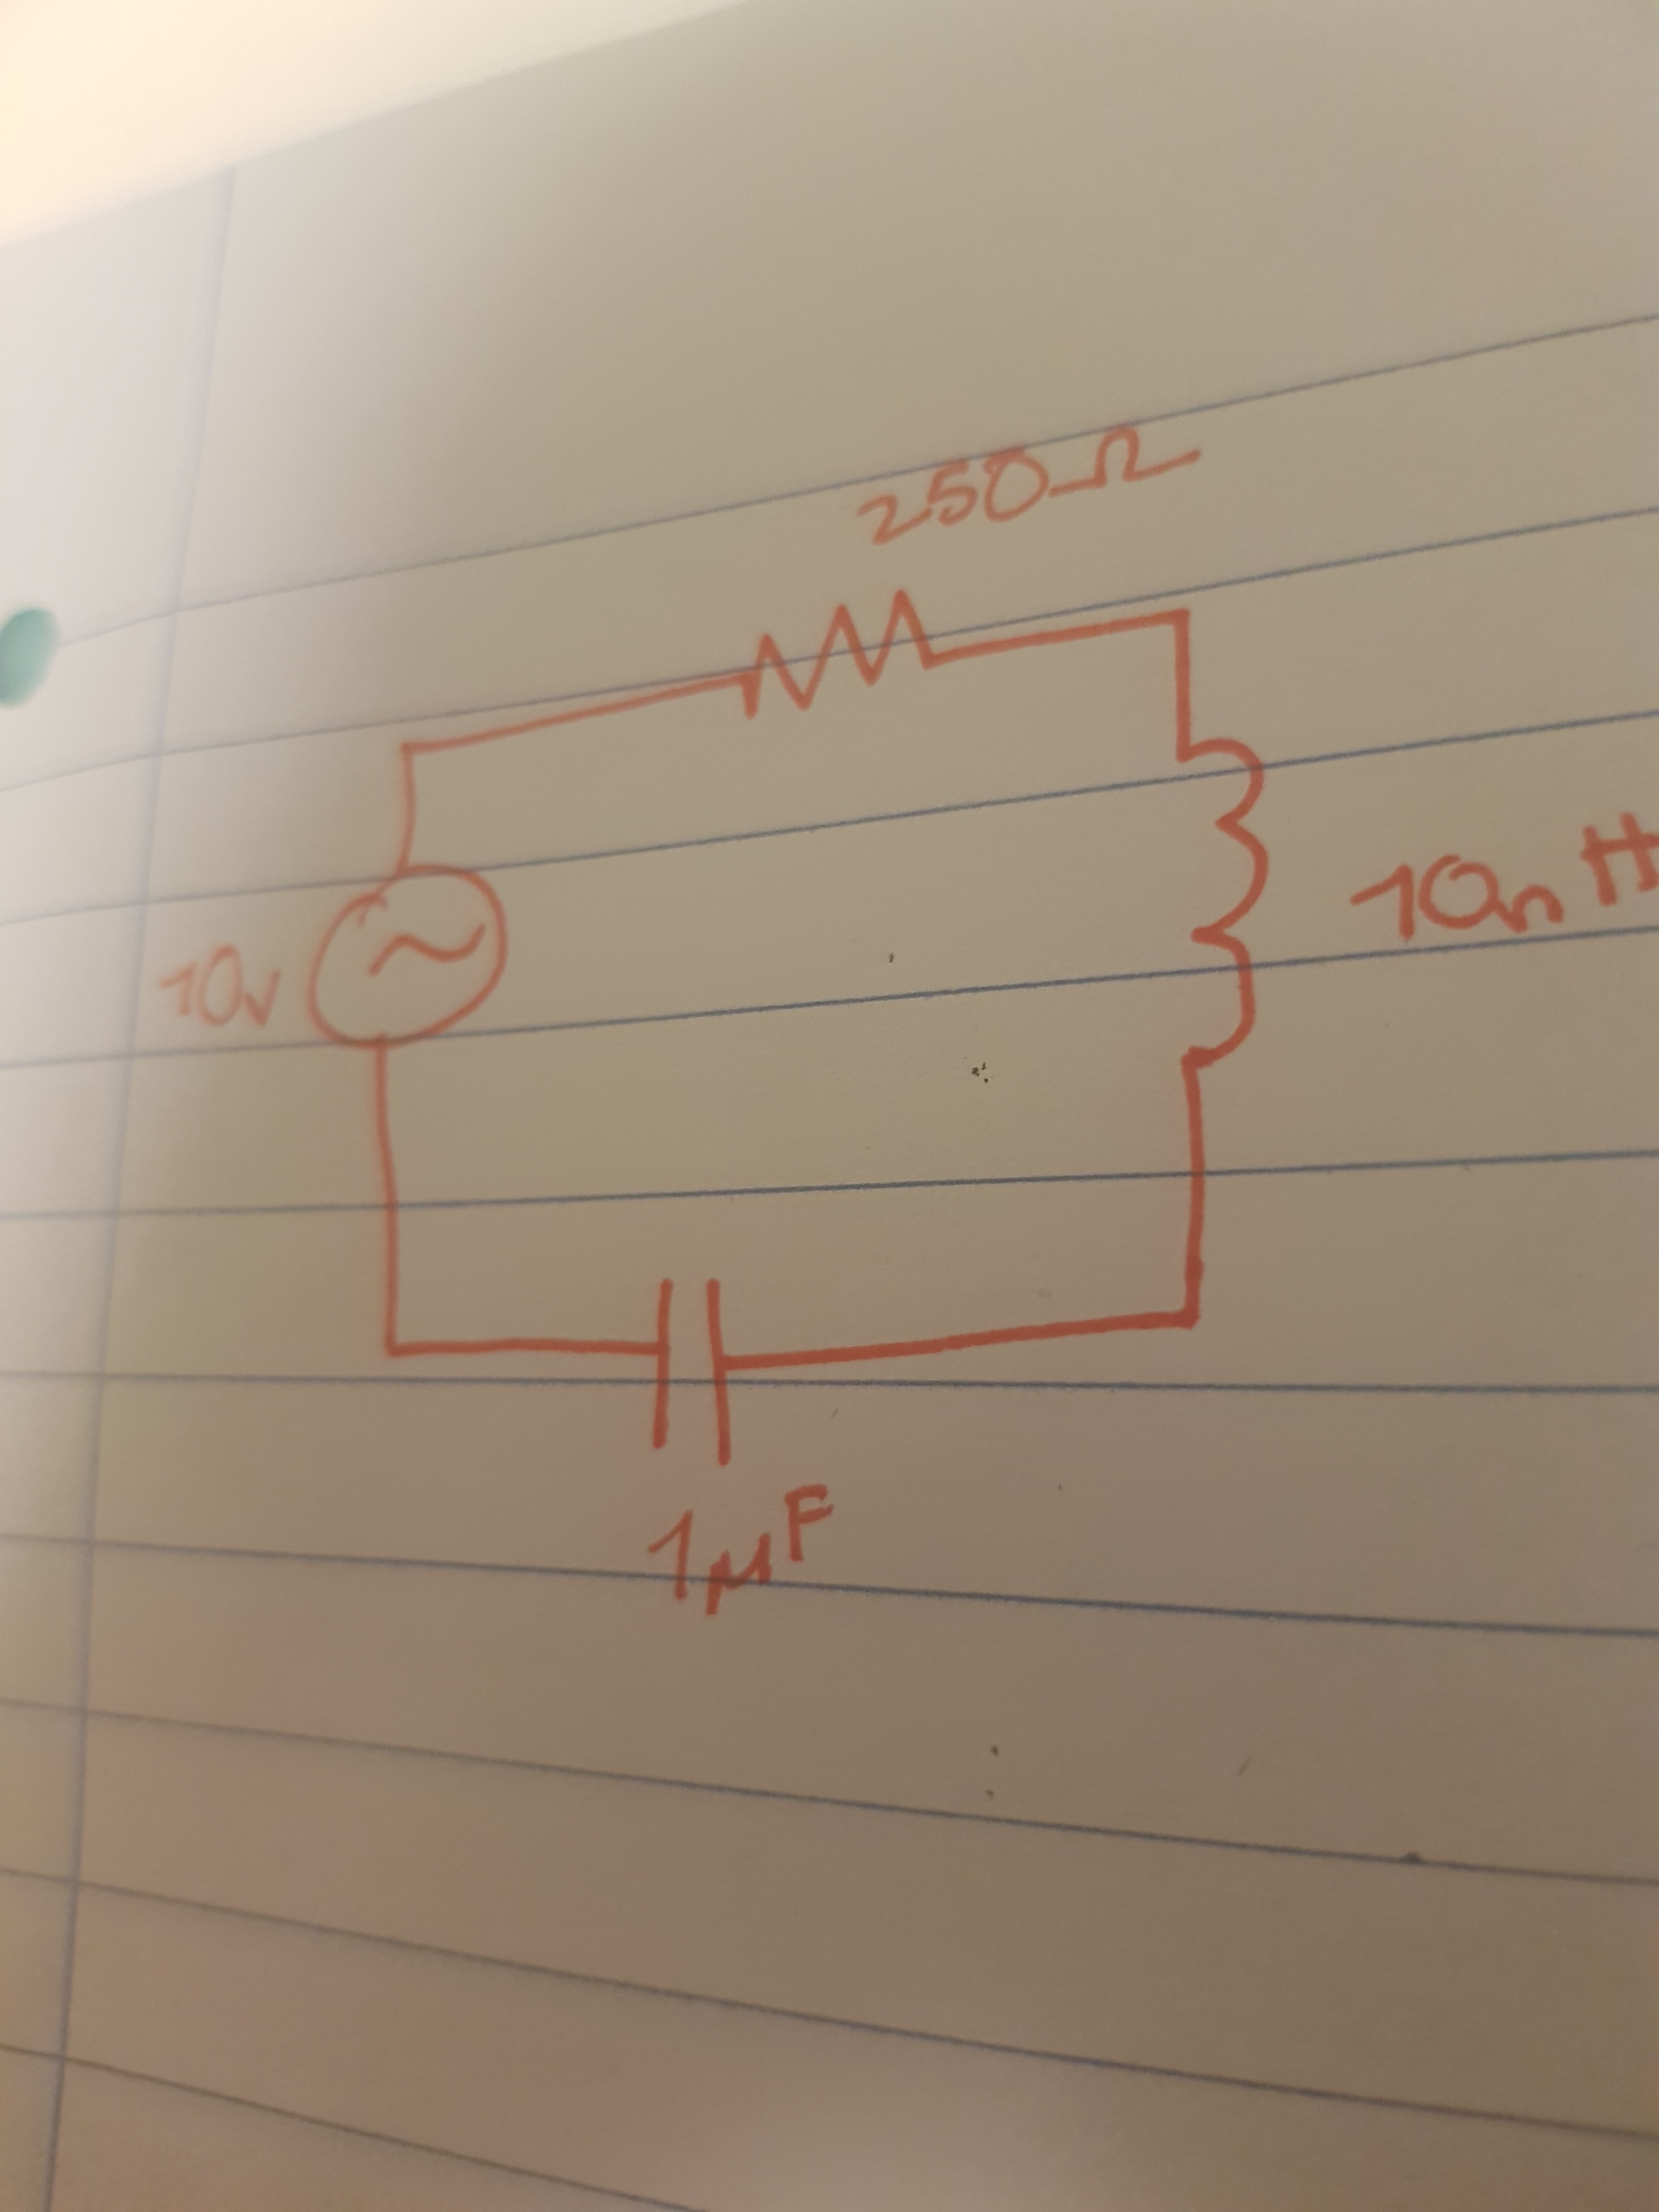capacitor.unpolarized: (627, 1251, 762, 1484)
inductor: (1148, 737, 1286, 1094)
junction: (1141, 573, 1244, 651), (1155, 1275, 1234, 1360), (356, 1303, 432, 1385), (380, 705, 441, 775)
resistor: (727, 587, 957, 723)
text: (819, 415, 1213, 545), (1354, 796, 1656, 960), (648, 1480, 836, 1629), (143, 932, 291, 1042)
voltage.dc: (301, 864, 525, 1069)
